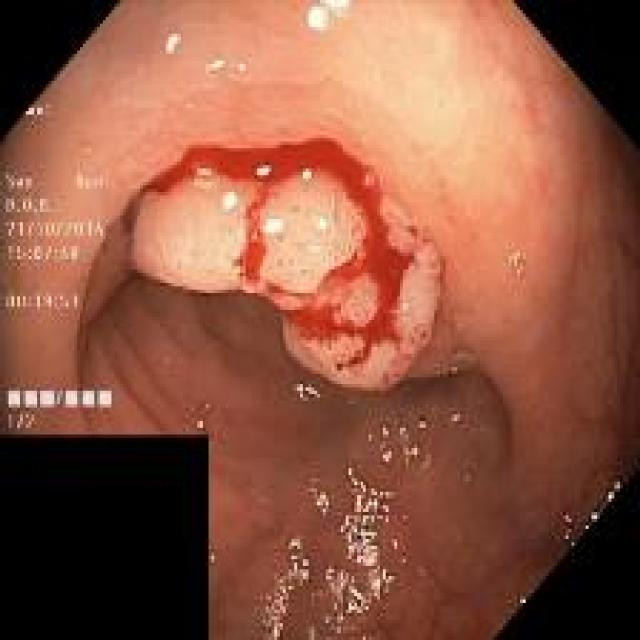Polyps: (132, 140, 442, 391)
